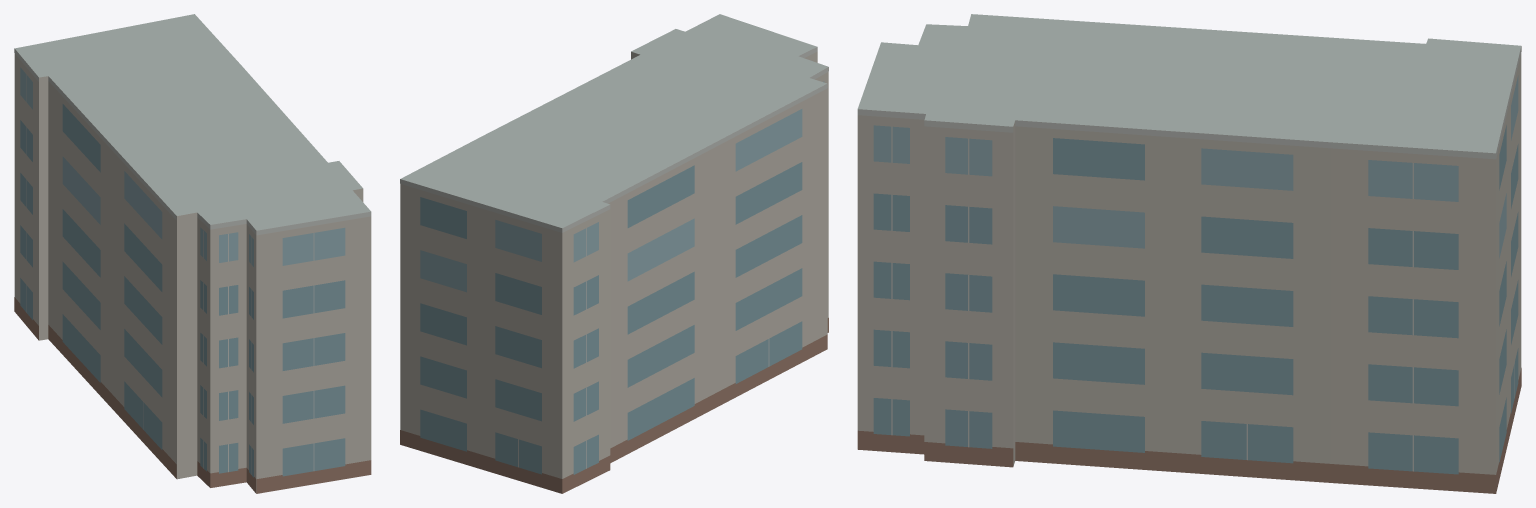
The model's file is survey-upis-32751535.glb.
3 views of the same model, side by side, from view 1: azimuth 30°, elevation 25°; view 2: azimuth 150°, elevation 25°; view 3: azimuth 270°, elevation 25° (orthographic). The views are drawn at different scales.
Visible parts, largest first — view 1: survey-upis-32751535.tmp; view 2: survey-upis-32751535.tmp; view 3: survey-upis-32751535.tmp.
Part boxes in pixels (x1,y1,x2,y2): survey-upis-32751535.tmp: (14, 14, 371, 493); survey-upis-32751535.tmp: (400, 14, 828, 493); survey-upis-32751535.tmp: (857, 14, 1521, 493).
Size of the model in its own units: 12.07 by 13.75 by 24.3.
